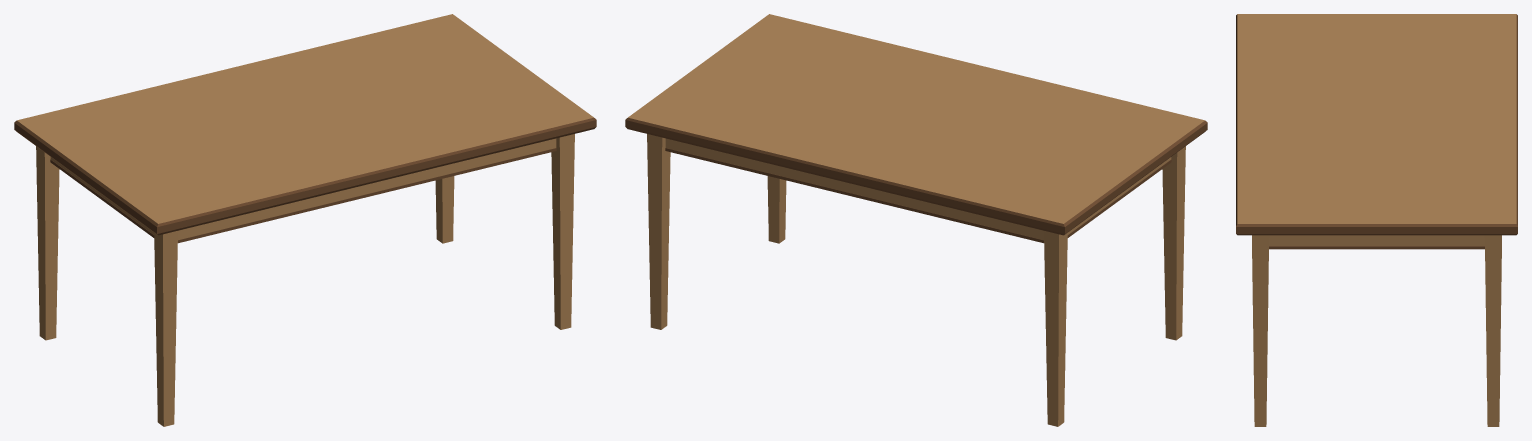
File: FN_Table_Dining.glb
3 views of the same model, side by side, from view 1: azimuth 30°, elevation 25°; view 2: azimuth 150°, elevation 25°; view 3: azimuth 270°, elevation 25° (orthographic).
Visible parts, largest first — view 1: FN_Table_Dining; view 2: FN_Table_Dining; view 3: FN_Table_Dining.
Boxes of the visible parts, box(x1,y1,x2,y2) form: FN_Table_Dining: box(14, 14, 596, 426); FN_Table_Dining: box(625, 14, 1207, 426); FN_Table_Dining: box(1236, 14, 1517, 426).
Size of the model in its own units: 1.6 by 0.74 by 0.9.
Materials: 1 (1 with a texture image).
